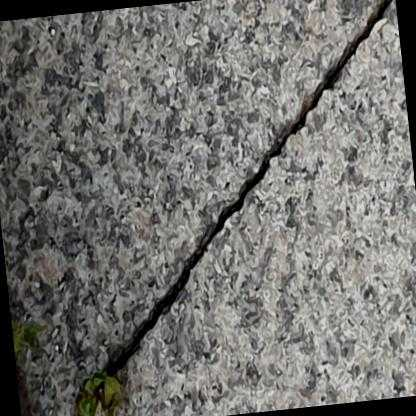crack: (105, 0, 394, 379)
